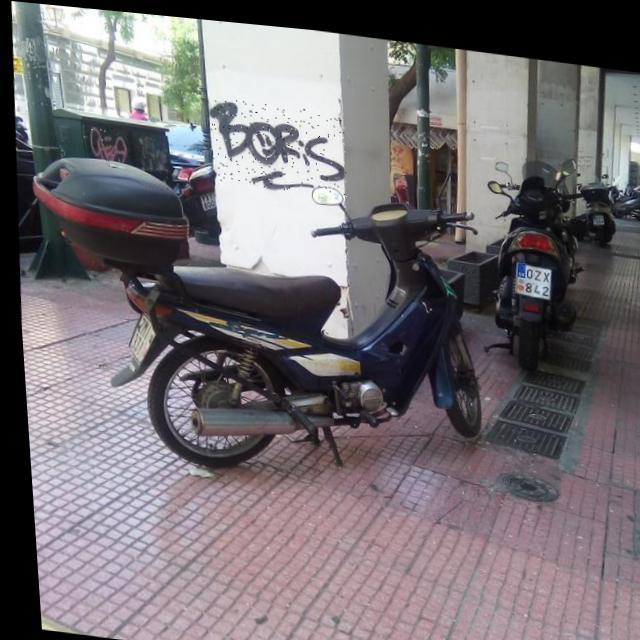-: (205, 92, 348, 191), (86, 122, 133, 163)
